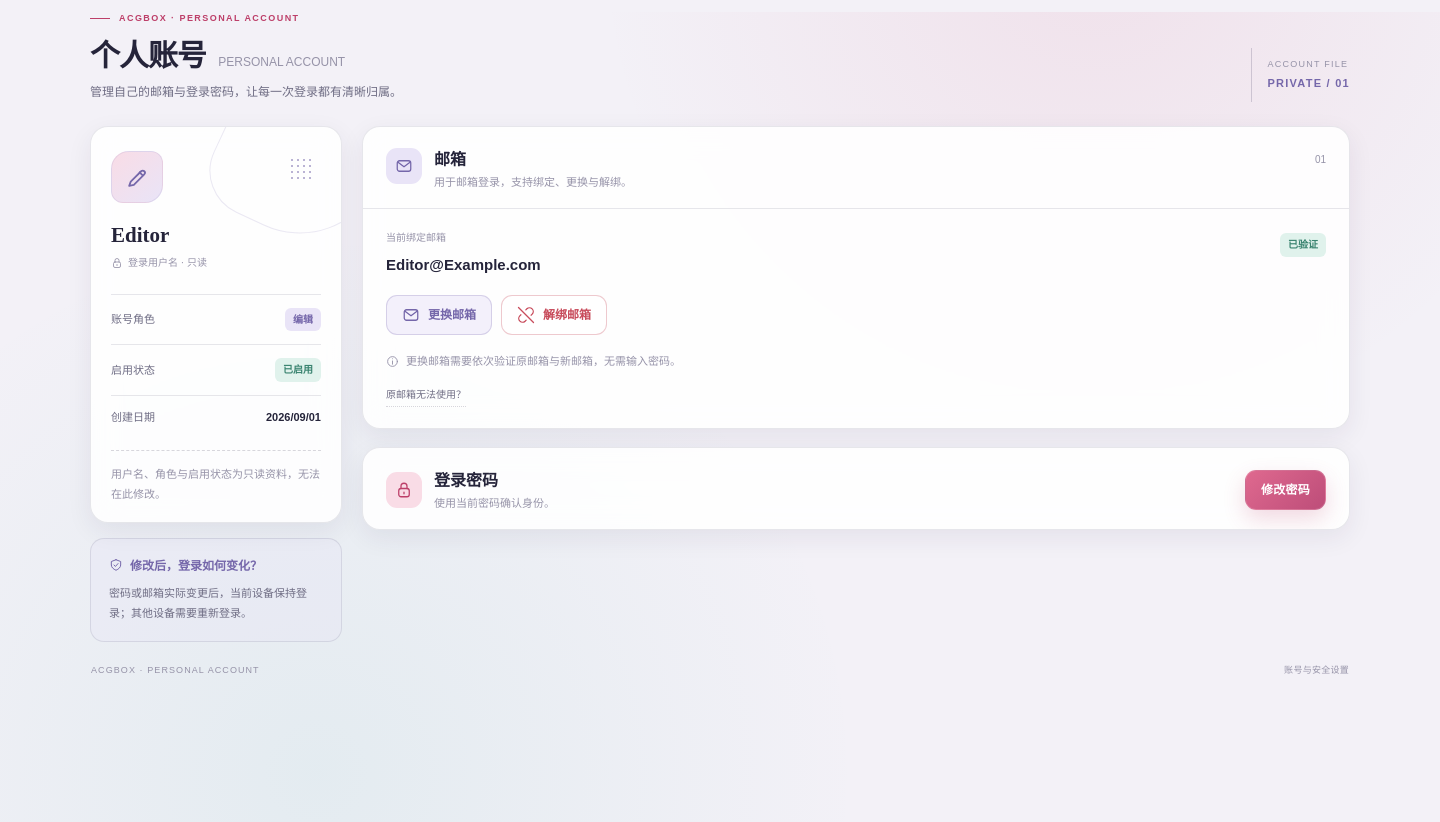
Test: 个人账号 › 不禁止新旧密码相同；保存成功而资料刷新失败不会误报保存失败
Click the button "修改密码": (1286, 490) x1=1245 y1=470 x2=1326 y2=510
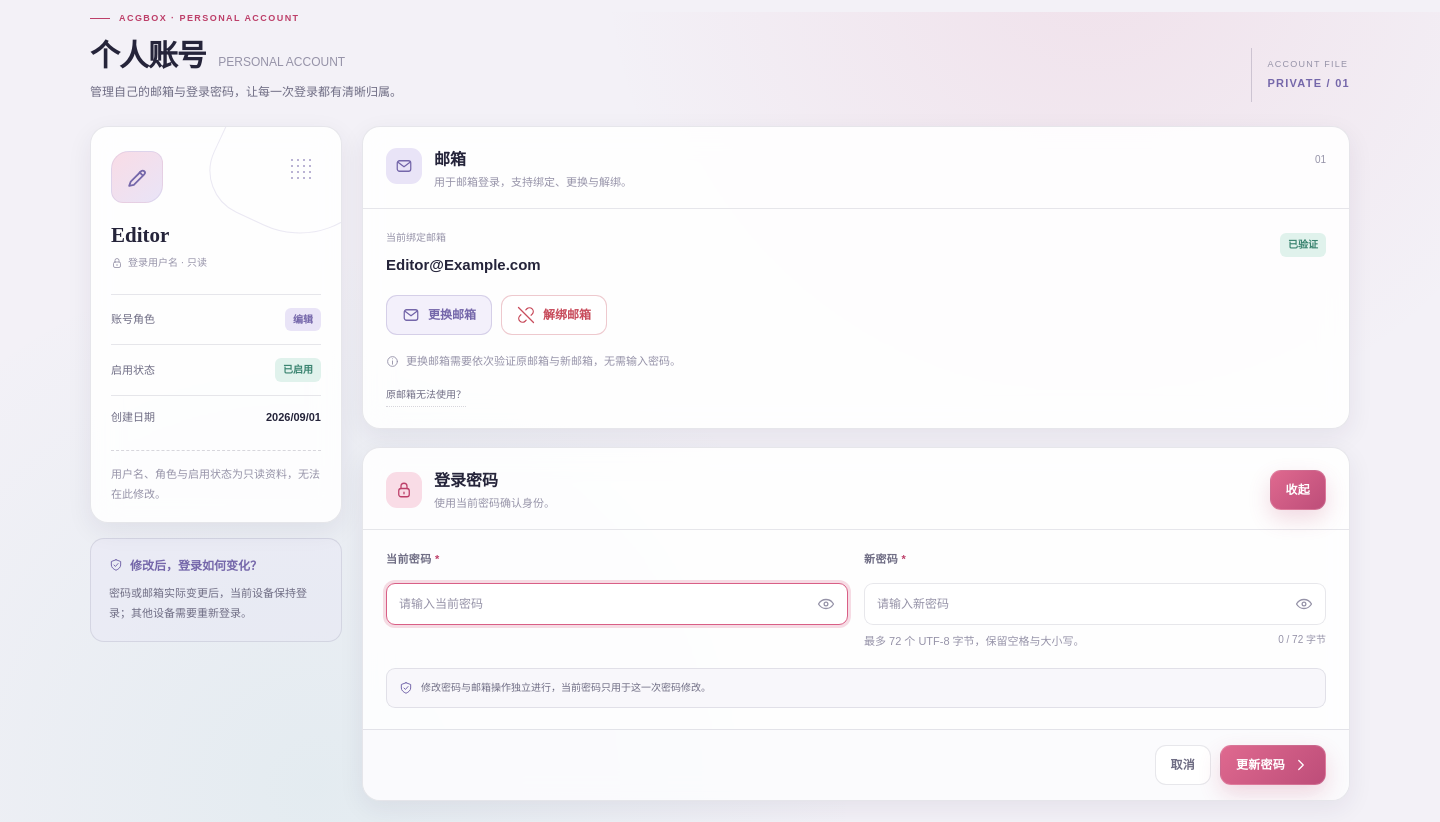
In the password field with id "currentPassword": (617, 604) x1=386 y1=583 x2=848 y2=625, type "same-password"
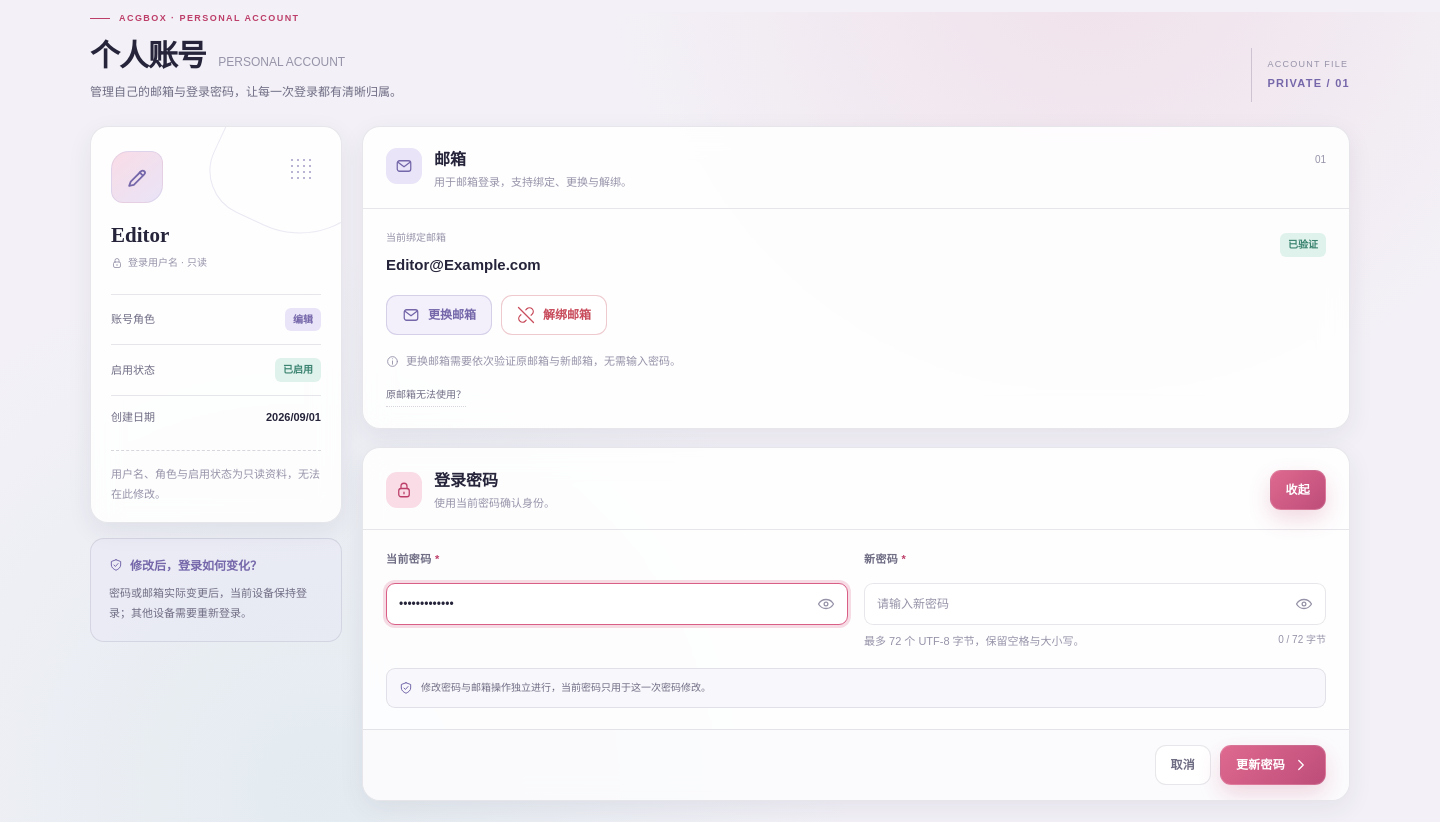
In the password field with id "newPassword": (1095, 604) x1=864 y1=583 x2=1326 y2=625, type "same-password"
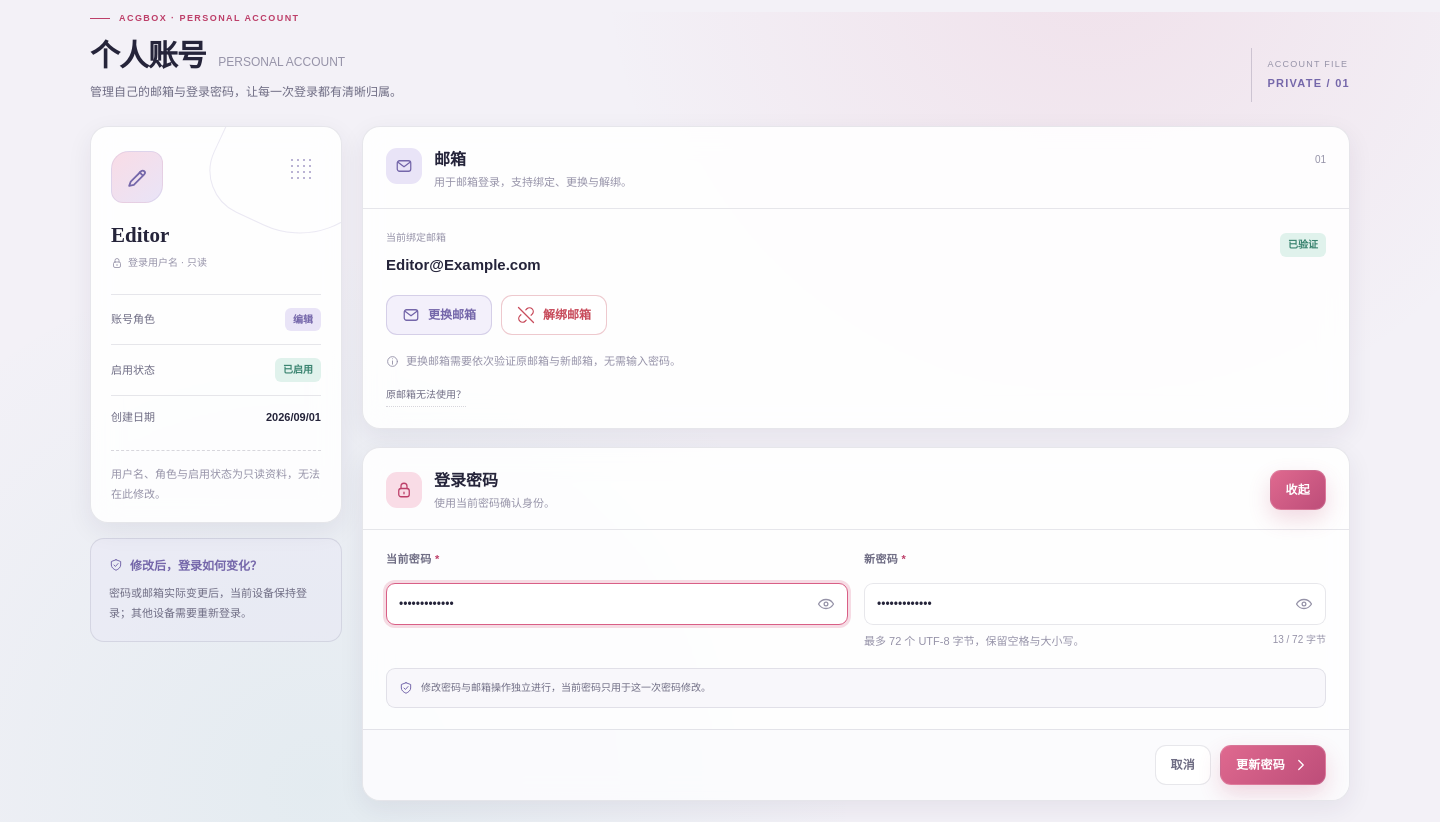
Submit the form, box x1=363 y1=530 x2=1349 y2=800
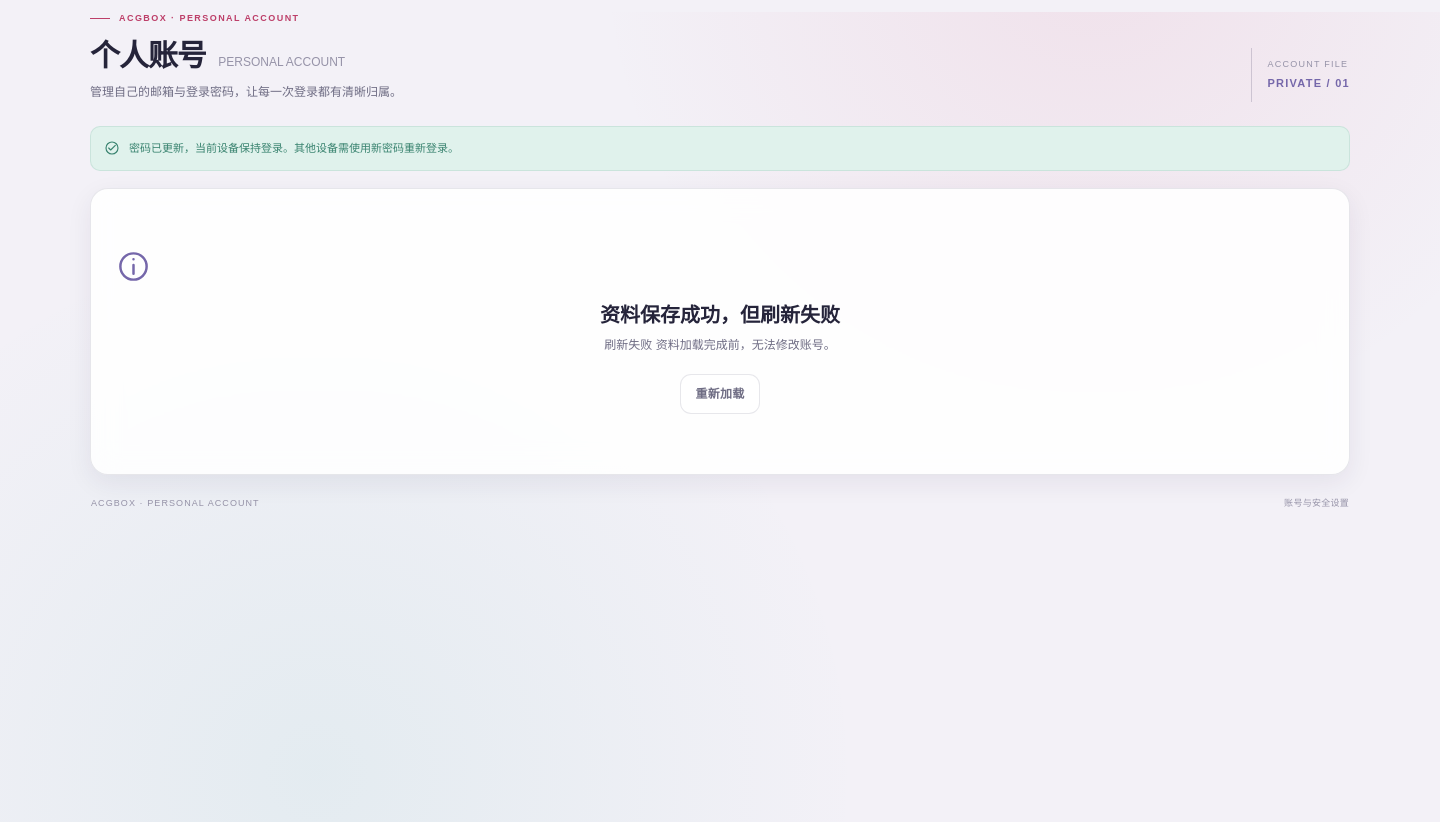
Check: the text "密码已更新" is shown, box x1=129 y1=142 x2=459 y2=154
Check: the text "资料保存成功，但刷新失败" is shown, box x1=600 y1=304 x2=840 y2=326
